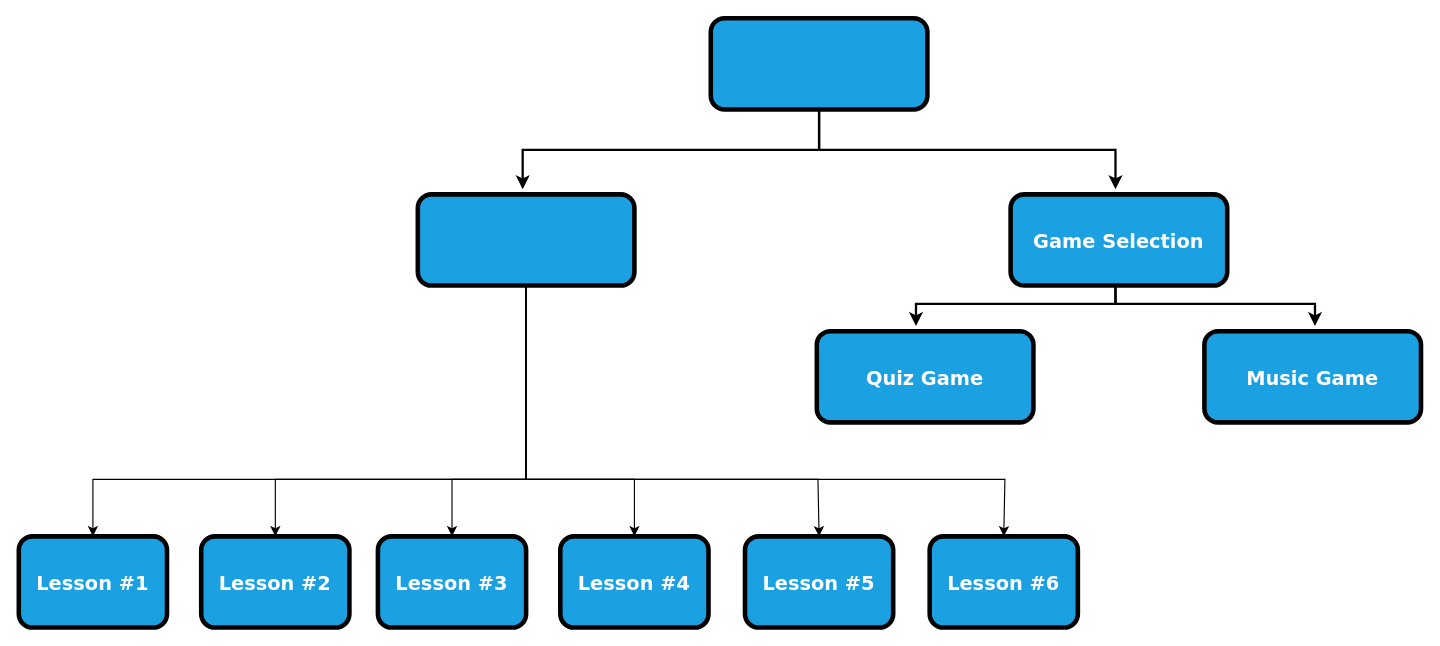
The diagram is 1440 pixels wide and 646 high, and some of its shapes have lost their labels. The centre of each missing label's shape, as x and y in pixels:
Home Screen: pixel 818 63
Lesson Selection: pixel 525 239
